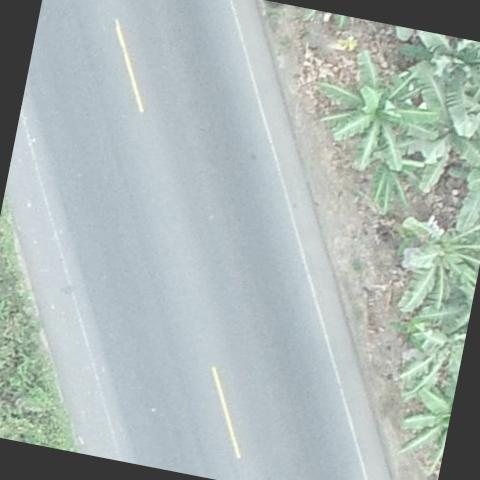Banana-plant: (306, 42, 450, 185), (382, 208, 480, 330), (377, 290, 472, 411), (390, 28, 480, 143), (393, 379, 456, 477), (356, 140, 430, 222), (430, 123, 480, 244)
